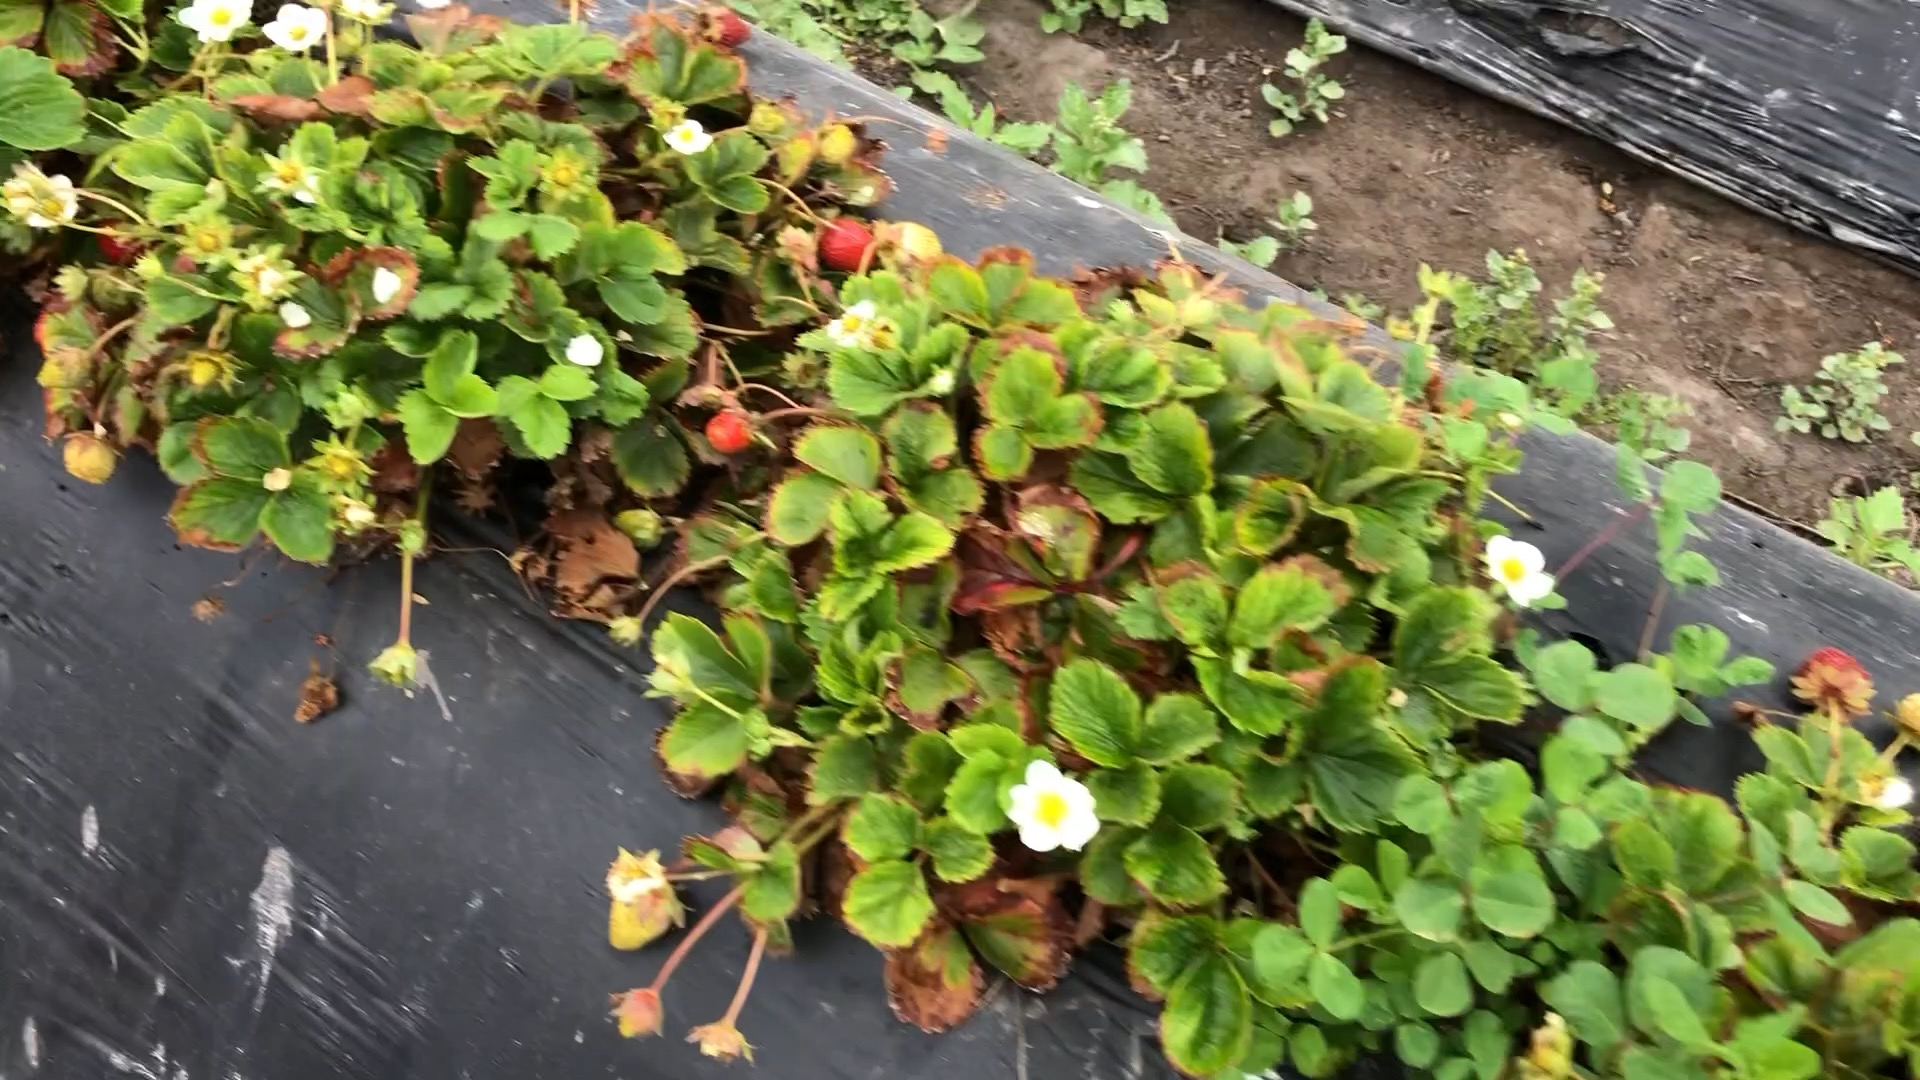ripe_strawberry: (1796, 645, 1873, 715), (815, 218, 884, 273), (704, 407, 766, 458), (94, 218, 146, 266), (694, 9, 756, 50)
unripe_strawberry: (605, 880, 678, 955), (61, 433, 123, 488), (612, 986, 663, 1040), (613, 506, 669, 550), (189, 352, 222, 392)
